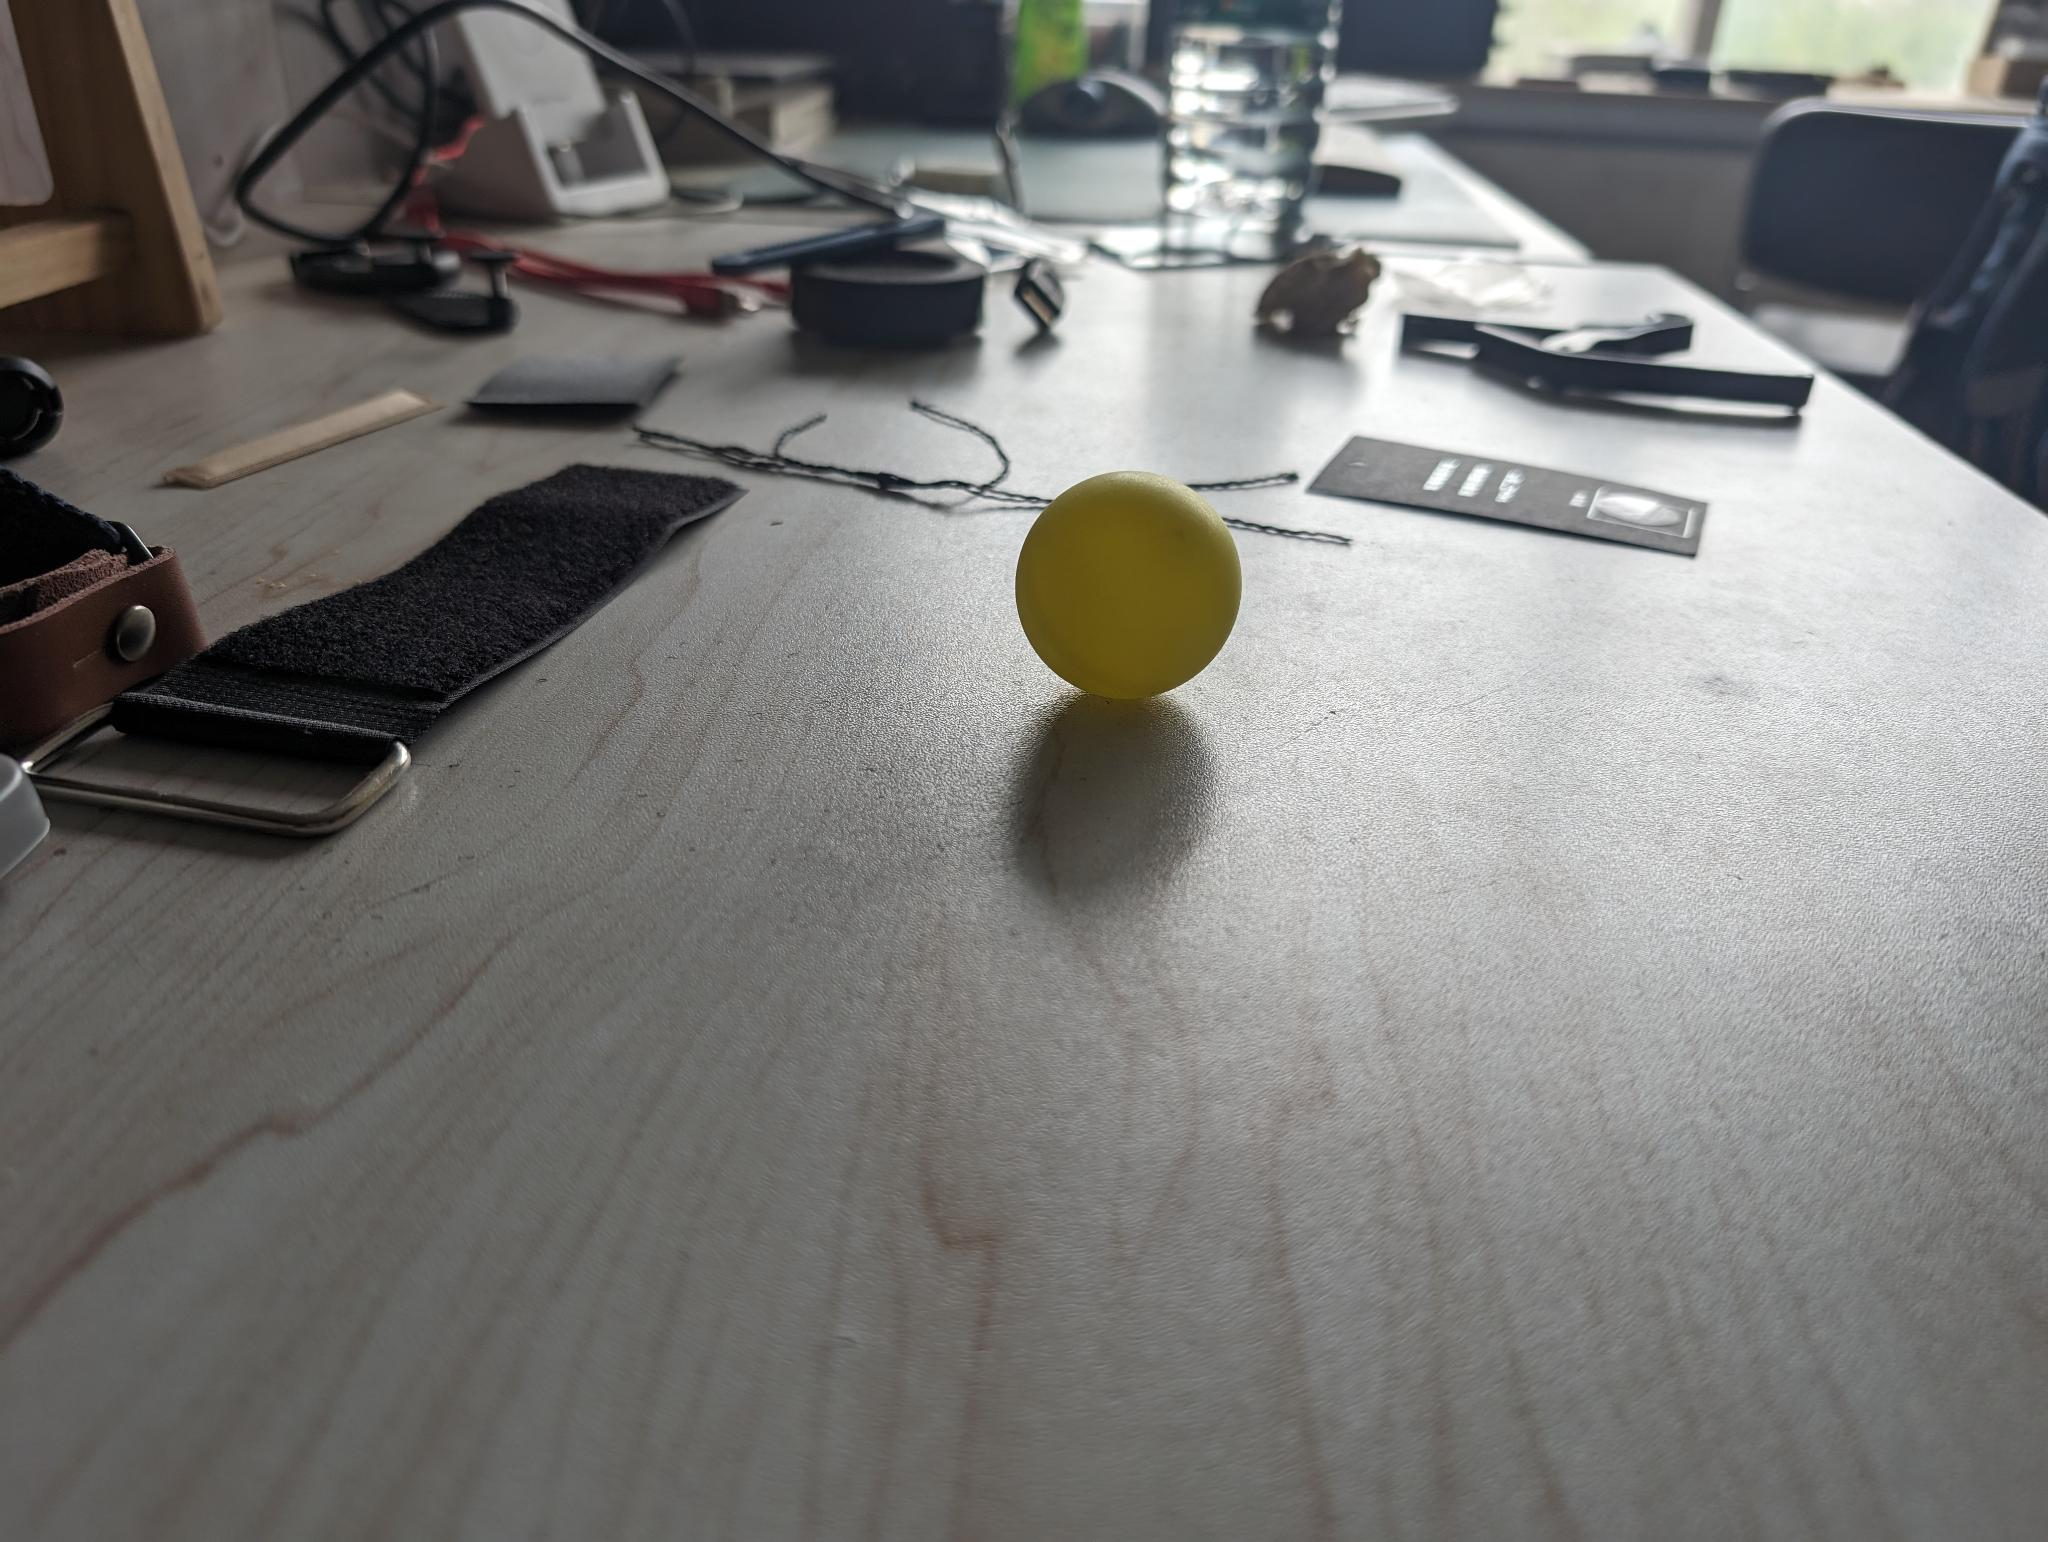ball: (1015, 468, 1243, 701)
